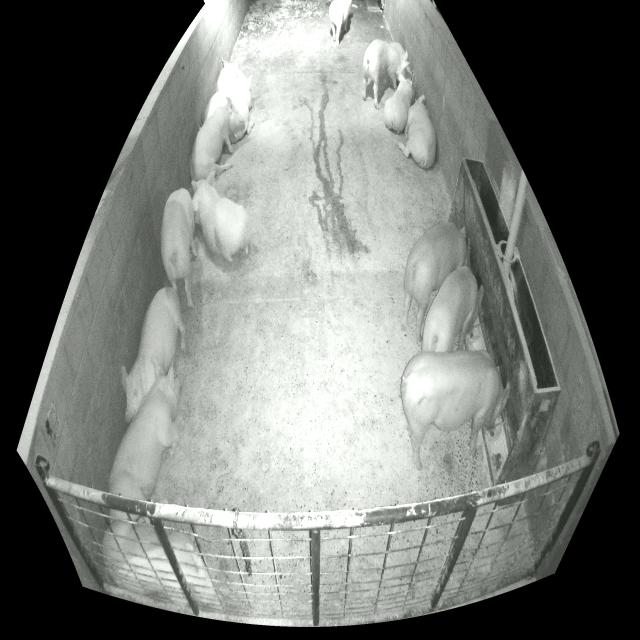pig: (401, 350, 510, 470), (108, 356, 182, 501), (103, 519, 215, 609), (121, 286, 186, 422), (402, 223, 466, 341), (191, 172, 252, 262), (422, 266, 483, 351), (190, 97, 245, 180), (161, 188, 199, 307), (362, 40, 409, 109), (215, 59, 253, 143), (397, 95, 436, 169), (384, 71, 414, 133), (329, 0, 352, 47), (204, 92, 226, 123), (390, 42, 408, 60)
